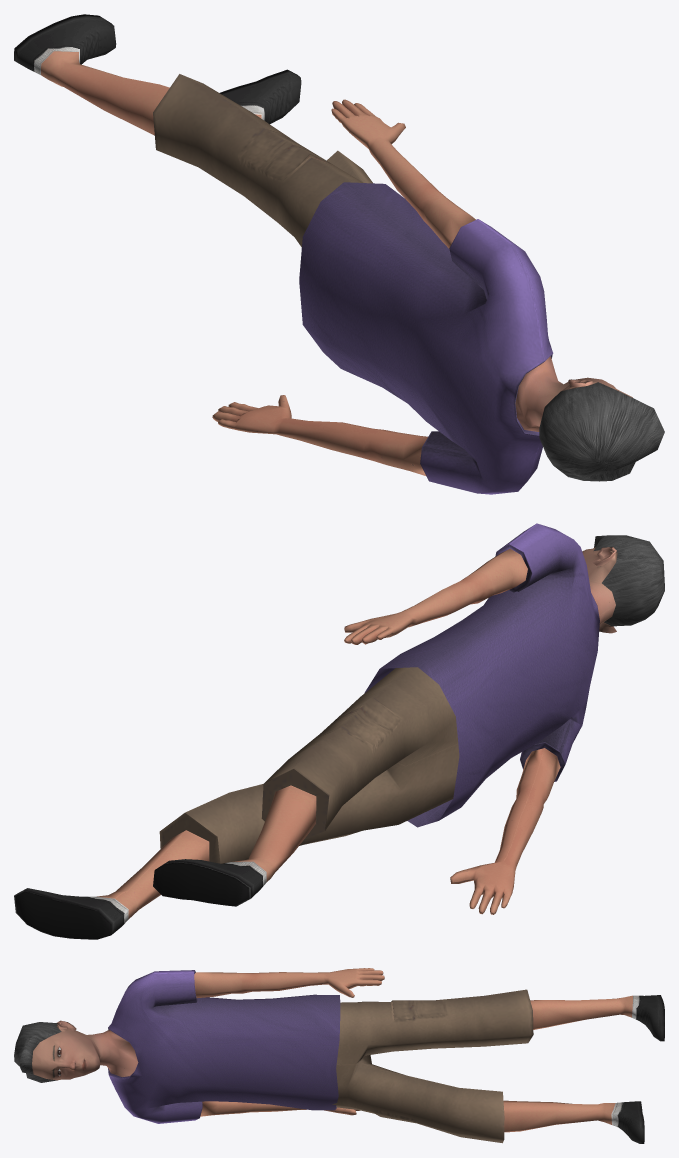
The model's file is walk.obj.
3 views of the same model, one above another, from view 1: azimuth 30°, elevation 25°; view 2: azimuth 150°, elevation 25°; view 3: azimuth 270°, elevation 25° (orthographic). The views are drawn at different scales.
Size of the model in its own units: 0.6049 by 0.5233 by 1.77.
Materials: 1 (1 with a texture image).
